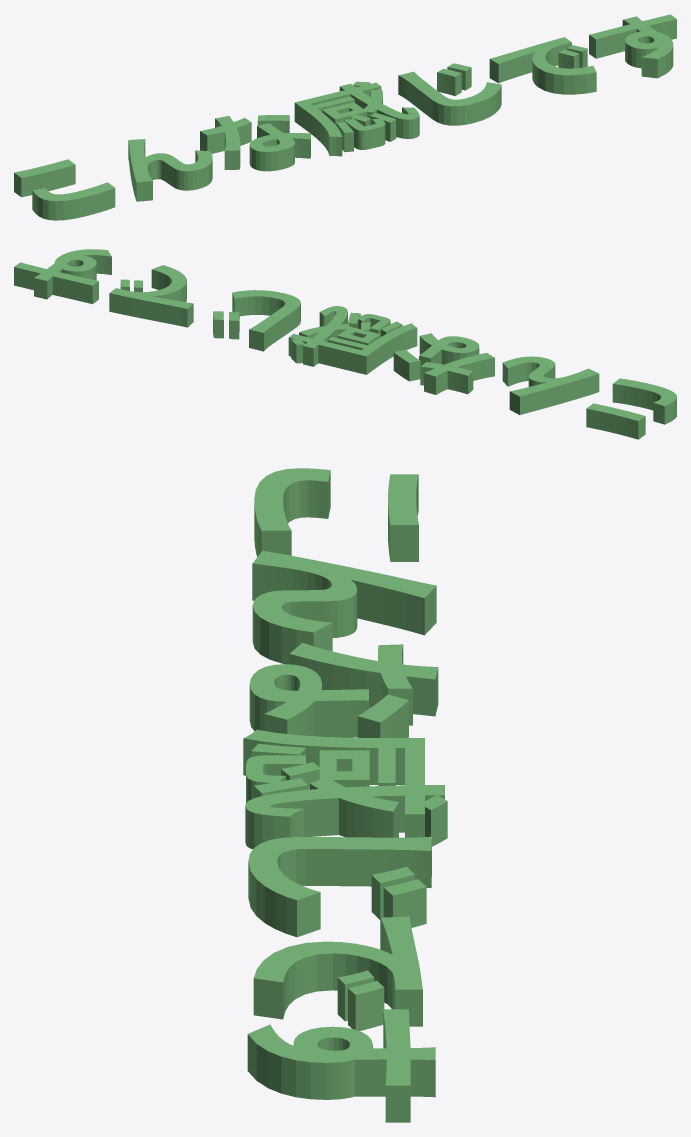
File: konnakanji.glb
The picture shows the model from 3 angles, top to bottom: view 1: azimuth 30°, elevation 25°; view 2: azimuth 150°, elevation 25°; view 3: azimuth 270°, elevation 25°; orthographic projection. The views are drawn at different scales.
Visible parts, largest first — view 1: Mesh_Mesh_head_geo.001_lambert2SG.001; view 2: Mesh_Mesh_head_geo.001_lambert2SG.001; view 3: Mesh_Mesh_head_geo.001_lambert2SG.001.
Part boxes in pixels (x1=…): Mesh_Mesh_head_geo.001_lambert2SG.001: x1=14, y1=14, x2=676, y2=220; Mesh_Mesh_head_geo.001_lambert2SG.001: x1=14, y1=249, x2=676, y2=439; Mesh_Mesh_head_geo.001_lambert2SG.001: x1=243, y1=468, x2=447, y2=1122.
Size of the model in its own units: 188 by 5.27 by 26.34.
